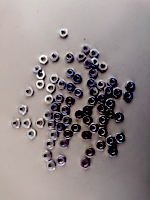nut: (114, 112, 125, 123), (81, 159, 91, 170), (85, 148, 96, 158), (96, 141, 106, 152), (108, 147, 119, 157), (106, 136, 117, 146), (115, 133, 126, 143), (45, 139, 55, 150), (59, 139, 69, 150), (74, 88, 84, 99), (57, 79, 67, 90), (49, 130, 59, 141), (43, 110, 53, 121), (55, 123, 66, 133), (124, 91, 134, 101), (126, 81, 136, 91), (108, 77, 118, 87), (113, 88, 123, 98), (106, 99, 116, 109), (98, 116, 108, 126), (98, 128, 108, 138), (82, 131, 92, 141), (71, 124, 81, 134), (56, 156, 66, 166), (46, 161, 56, 171), (42, 151, 52, 161), (35, 119, 45, 129), (26, 129, 36, 139), (22, 119, 32, 129), (11, 119, 21, 129), (18, 105, 28, 115), (24, 87, 34, 97), (44, 95, 54, 105), (35, 80, 45, 90), (46, 83, 56, 93), (55, 94, 65, 104), (65, 96, 75, 106), (83, 105, 93, 115), (75, 110, 85, 120), (83, 116, 93, 126), (89, 124, 99, 134), (65, 53, 75, 63), (50, 52, 60, 62), (32, 65, 42, 75), (97, 104, 107, 114), (88, 97, 98, 107), (87, 79, 97, 89), (89, 87, 99, 97), (88, 68, 98, 78), (46, 120, 56, 130), (62, 116, 72, 126), (52, 112, 62, 122), (63, 130, 73, 140), (59, 28, 69, 38), (39, 55, 48, 65), (66, 68, 75, 78), (73, 74, 82, 84), (66, 83, 75, 93), (50, 74, 59, 84), (36, 71, 46, 80), (99, 62, 108, 72), (51, 103, 60, 113), (61, 106, 70, 116), (97, 81, 106, 90), (104, 87, 113, 96), (90, 49, 99, 58), (77, 52, 86, 61), (84, 59, 93, 68), (91, 58, 100, 67), (81, 45, 91, 53), (106, 110, 114, 120), (99, 94, 107, 103)
